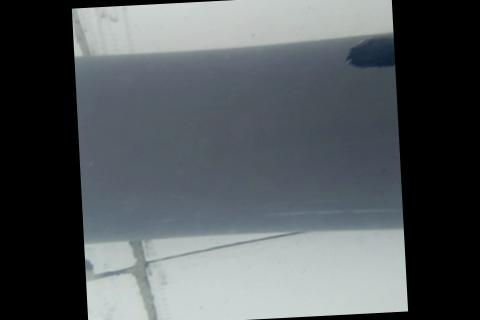kebocoran: (343, 33, 395, 71)
